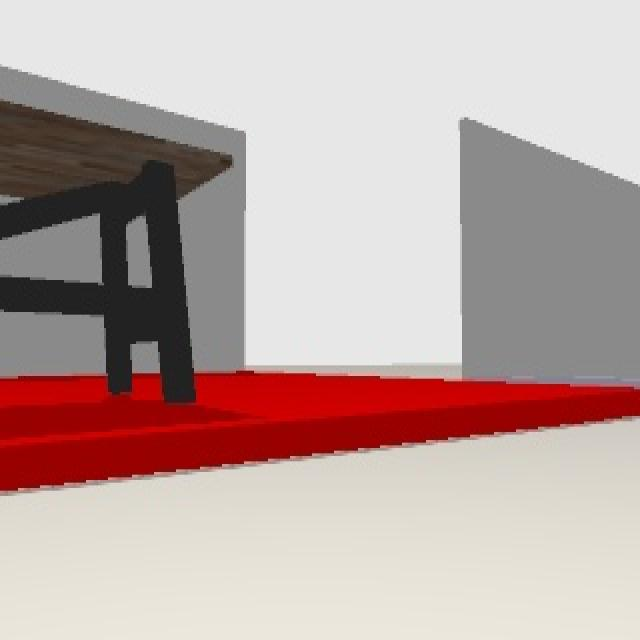dining: (0, 100, 234, 406)
